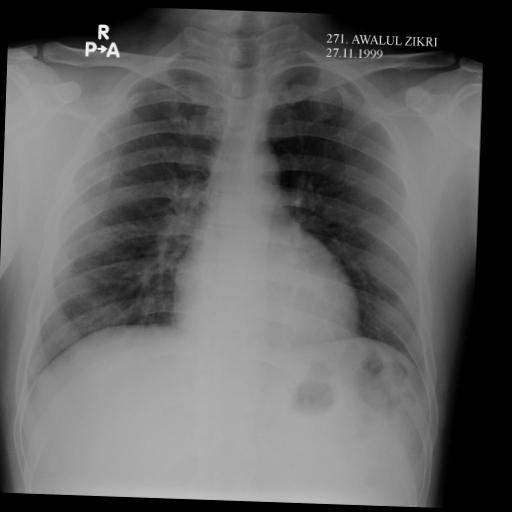normal: (12, 27, 444, 396)
